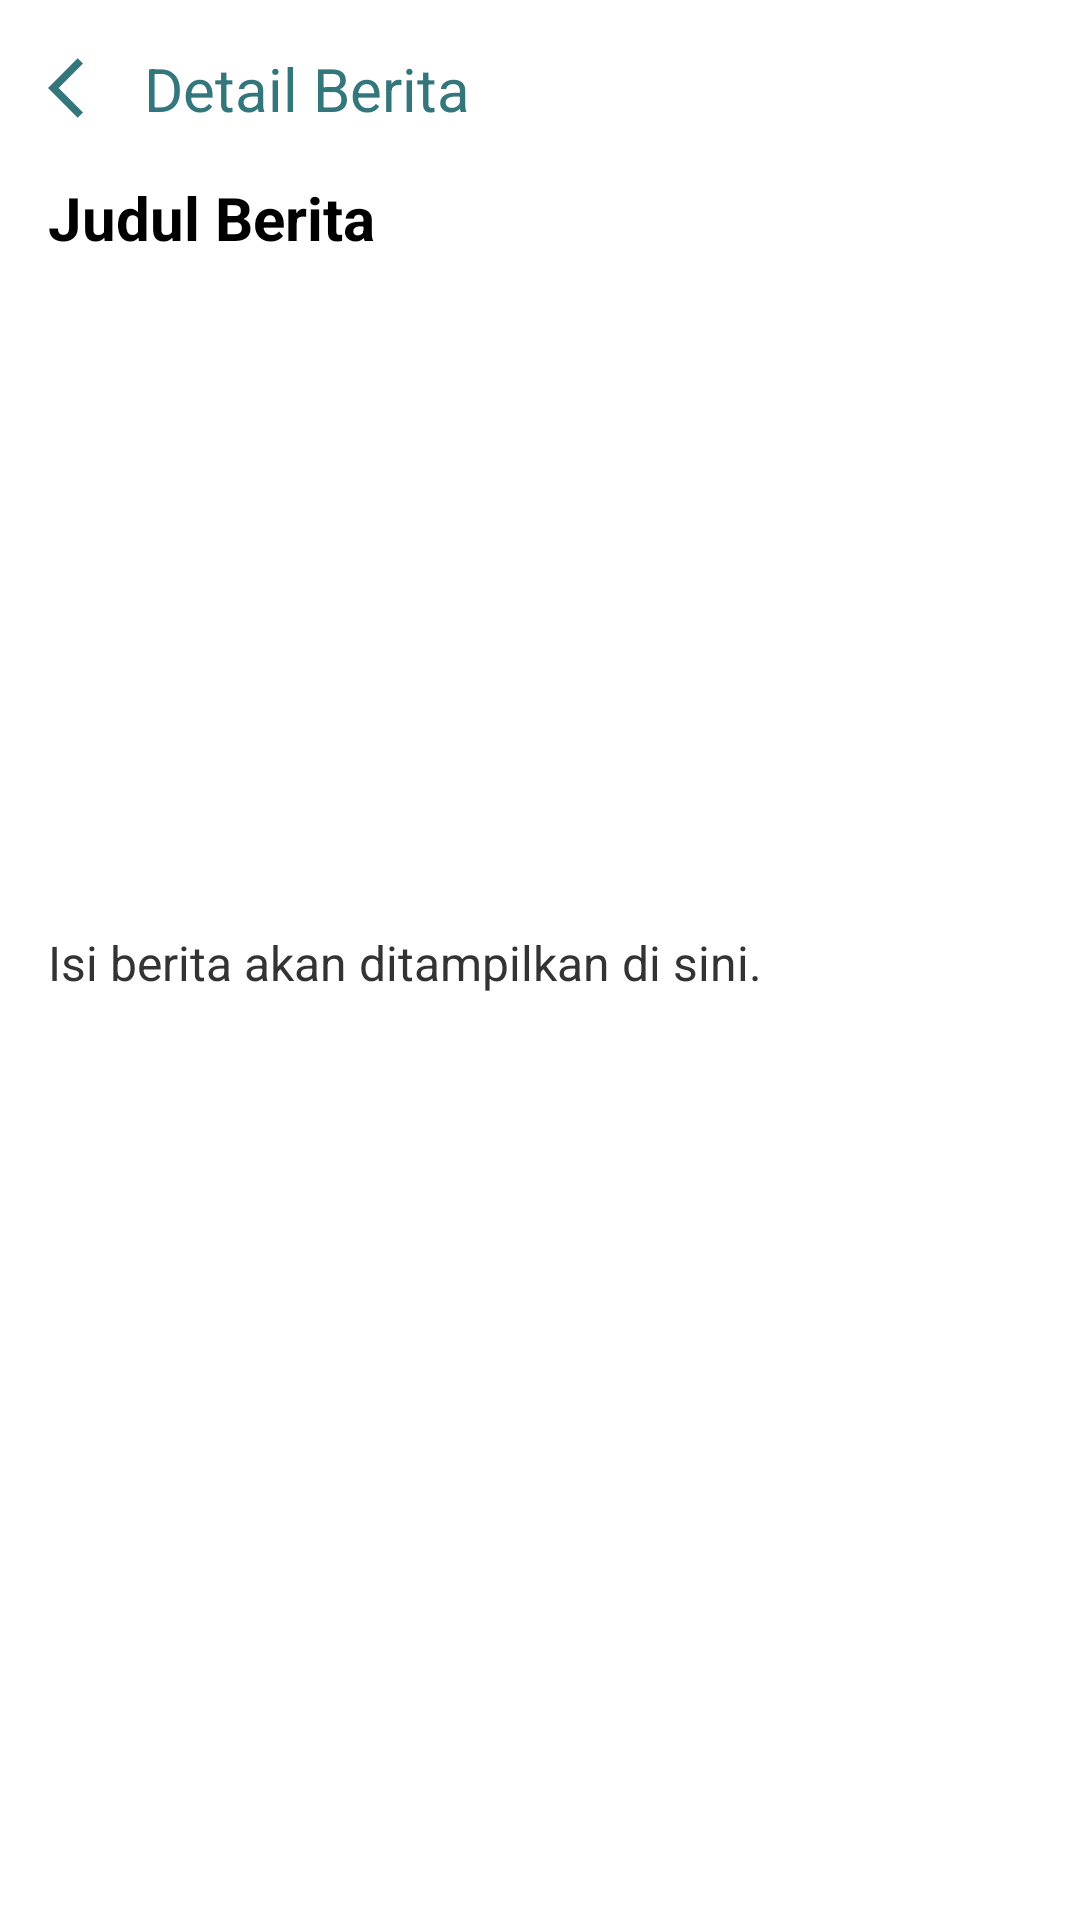

Where icons sit on this 1080 x 1920 app screen, as detection(x1, y1, x2, y2):
Back: detection(48, 58, 83, 118)
